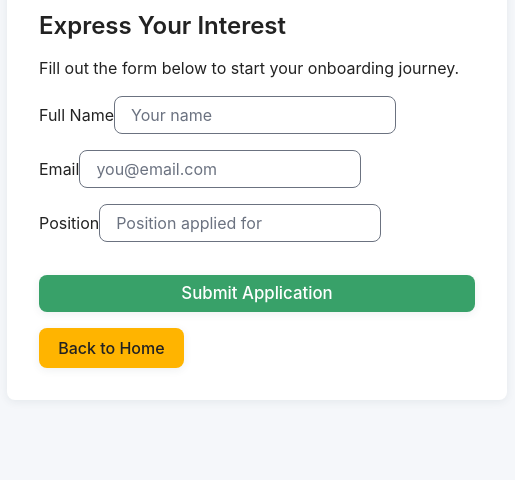
InterestForm component › shows error banner for storage failure
Type "John Doe" into the field with placeholder "Your name" at (255, 115), box [114,96,396,134]
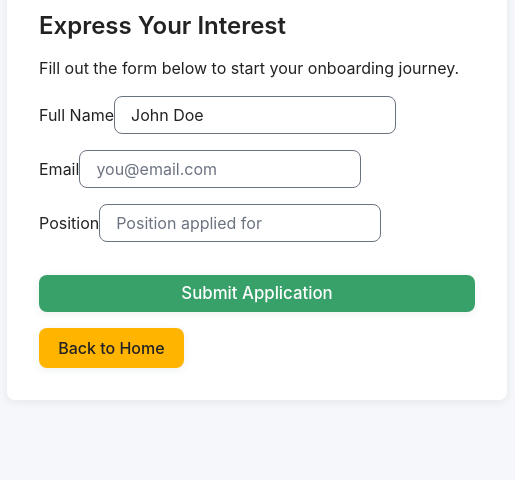
Type "john@example.com" into the field with placeholder "you@email.com" at (220, 169), box [79,150,361,188]
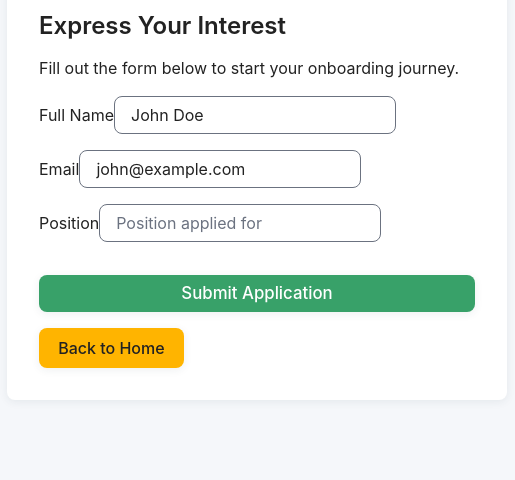
Type "Engineer" into the field with placeholder "Position applied for" at (240, 223), box [99,204,381,242]
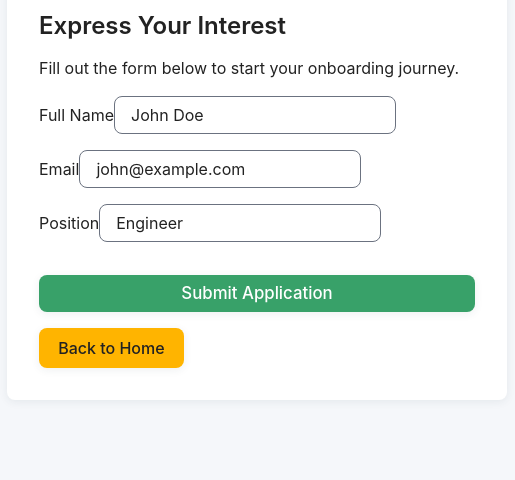
Click the button "Submit Application" at (257, 293), box [39,275,475,312]
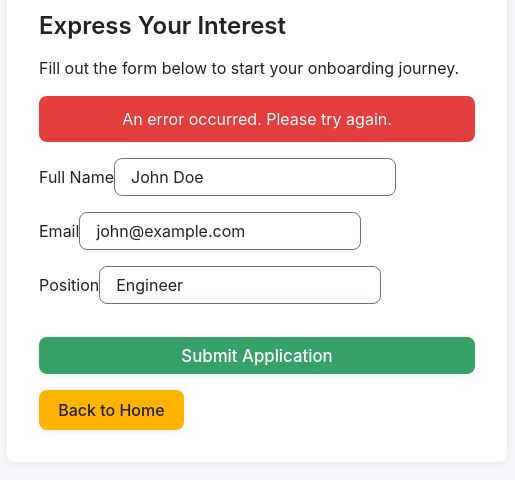
Now the text "An error occurred. Please try again." is shown, box [39,96,475,142]
